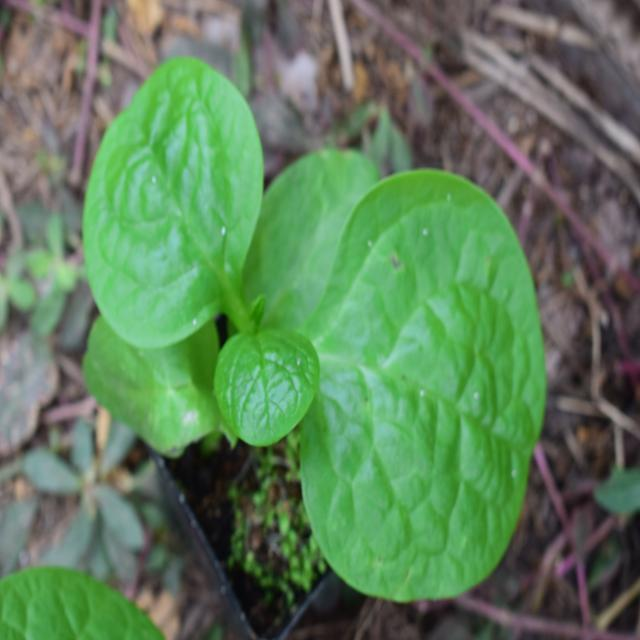Ceylon spinach: (65, 80, 534, 582)
